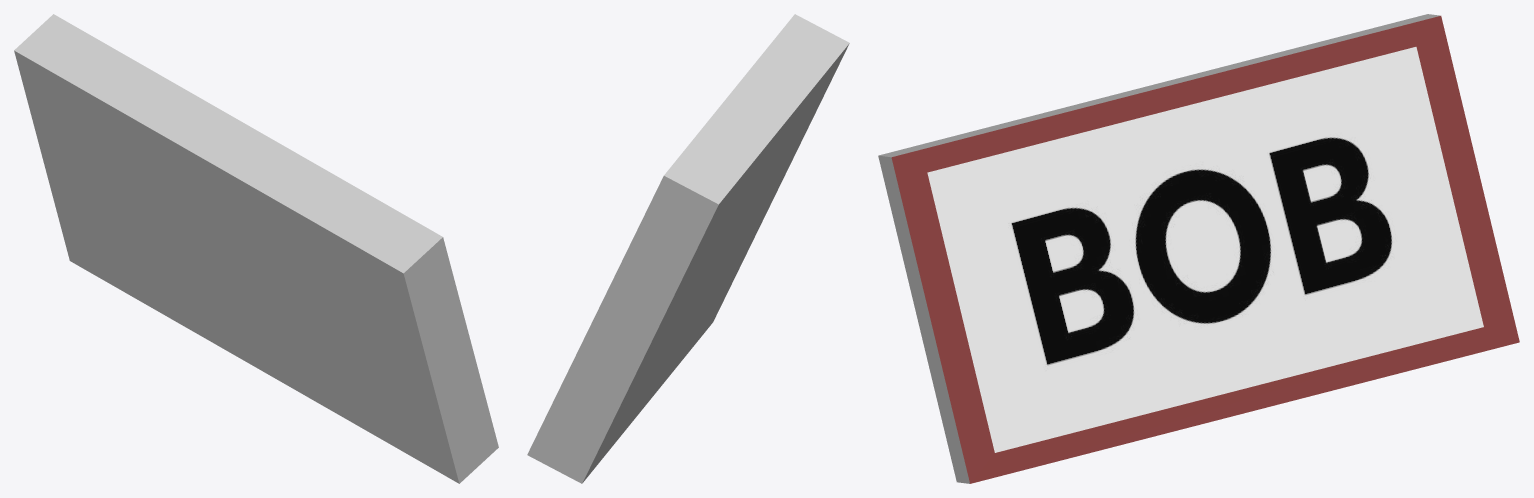
The model's file is PlaquinhaBob.fbx.
3 renders of one model, left to right at view 1: azimuth 30°, elevation 25°; view 2: azimuth 150°, elevation 25°; view 3: azimuth 270°, elevation 25°, orthographic. The views are drawn at different scales.
Visible parts, largest first — view 1: pCube17; view 2: pCube17; view 3: pCube17.
Boxes of the visible parts, <box> form: pCube17: <box>14,14,498,483</box>; pCube17: <box>527,14,849,483</box>; pCube17: <box>878,14,1519,483</box>.
Bounding box in the file's own units: 0.1138 × 0.1397 × 0.2179.
3 materials, 1 textured.
